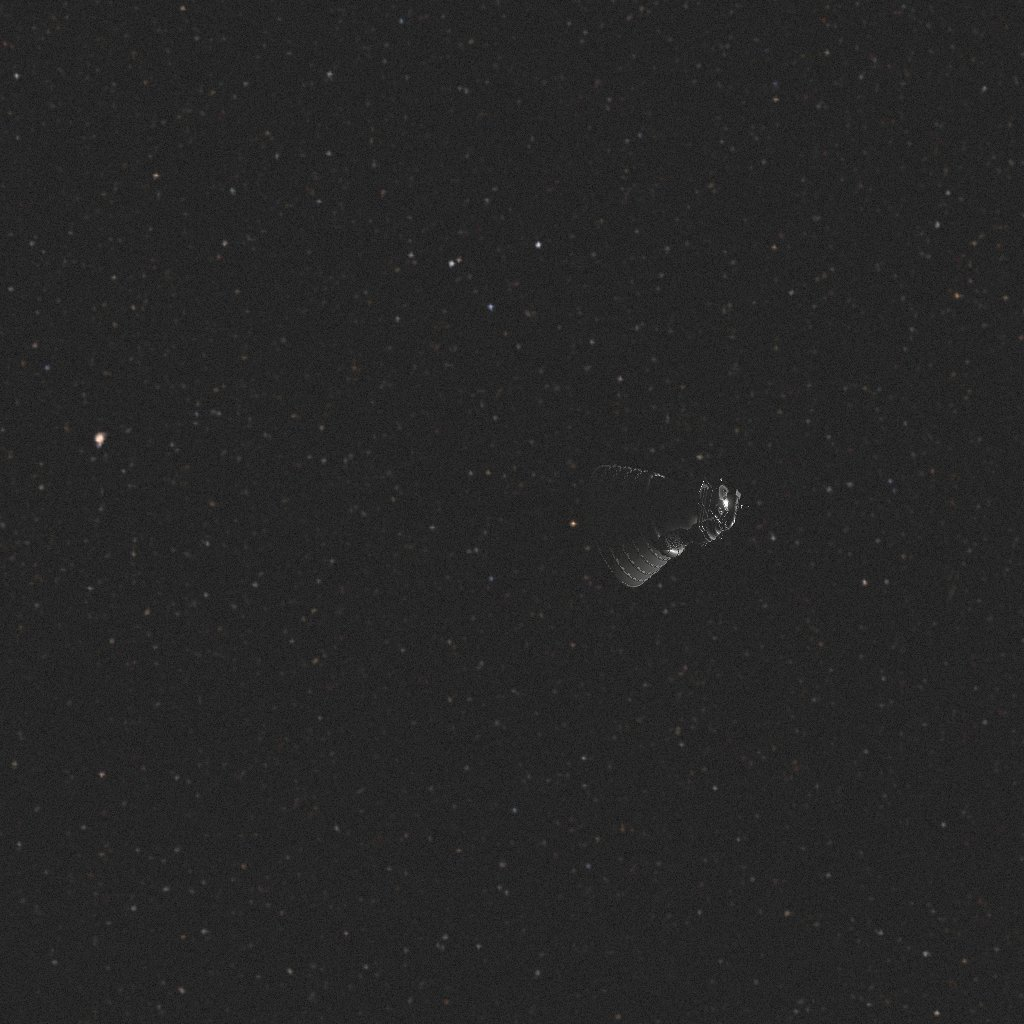debris: (586, 465, 749, 587)
